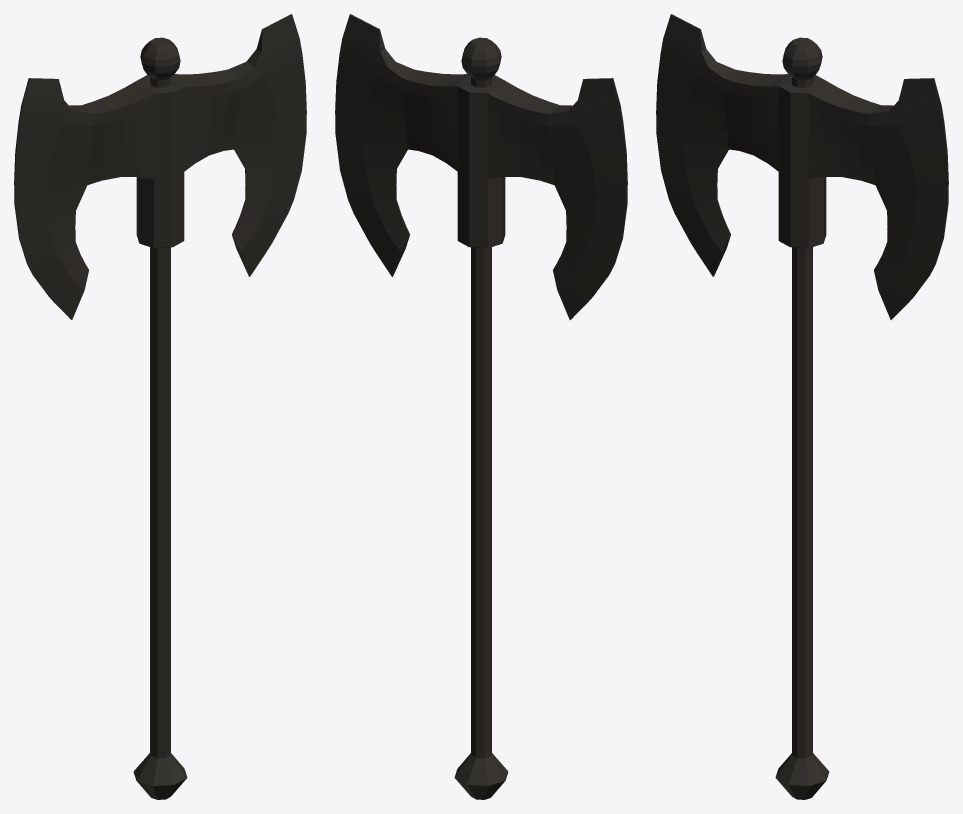
The model's file is shop-item-1018.glb.
3 renders of one model, left to right at view 1: azimuth 30°, elevation 25°; view 2: azimuth 150°, elevation 25°; view 3: azimuth 330°, elevation 25°, orthographic.
Parts seen in each view (by area): view 1: two_handed_axe_8; view 2: two_handed_axe_8; view 3: two_handed_axe_8.
Boxes of the visible parts, x1,y1,x2,y2 form: two_handed_axe_8: (14, 14, 306, 799); two_handed_axe_8: (335, 14, 627, 799); two_handed_axe_8: (656, 14, 948, 799).
Bounding box in the file's own units: 0.7975 × 1.97 × 0.1323.
1 material, 1 textured.
